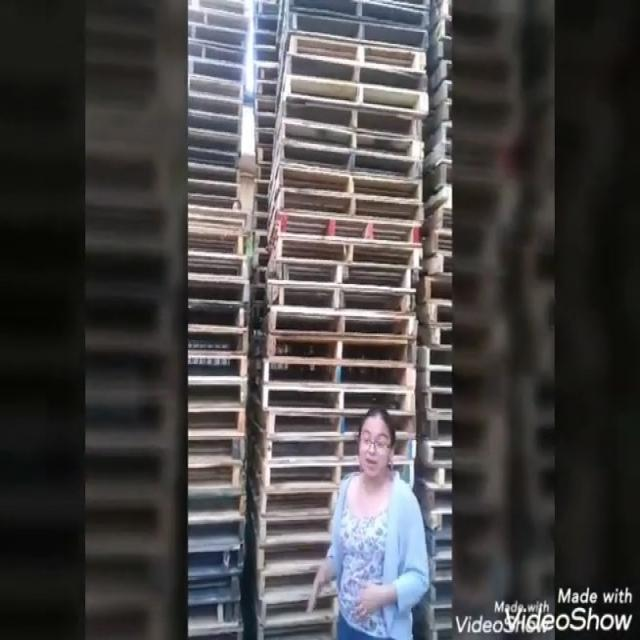Palette: (256, 0, 420, 640), (186, 0, 256, 640), (435, 0, 453, 640)
